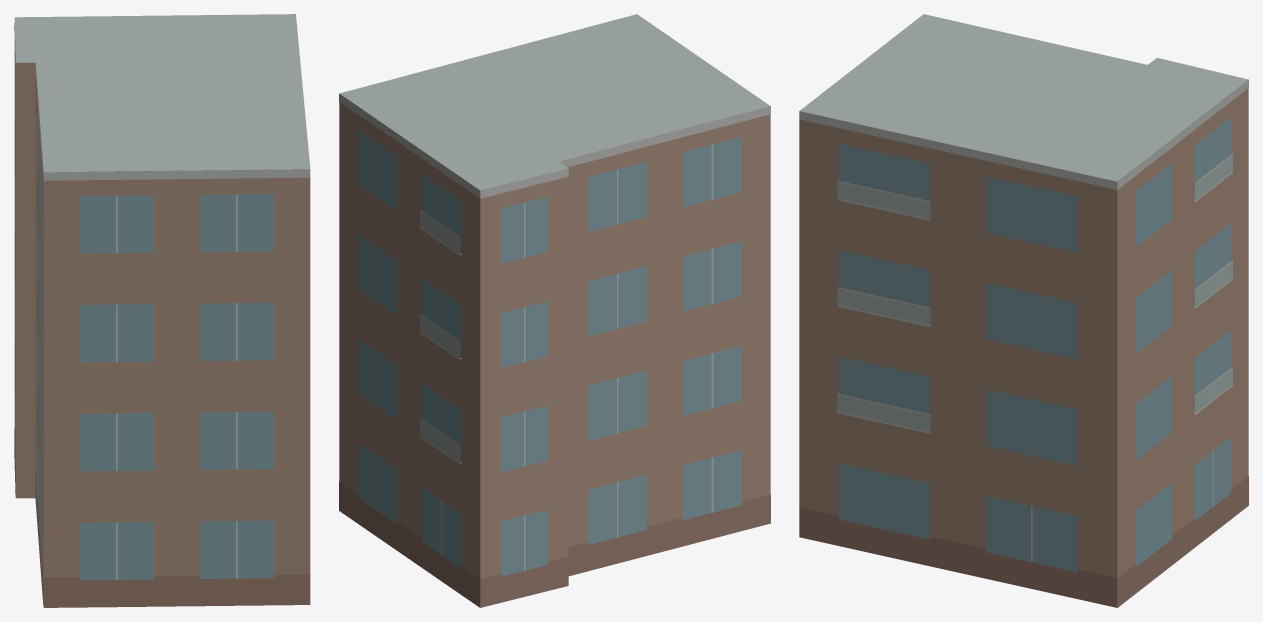
The model's file is survey-upis-32980321.glb.
3 views of the same model, side by side, from view 1: azimuth 30°, elevation 25°; view 2: azimuth 150°, elevation 25°; view 3: azimuth 270°, elevation 25° (orthographic). The views are drawn at different scales.
Parts seen in each view (by area): view 1: survey-upis-32980321.tmp; view 2: survey-upis-32980321.tmp; view 3: survey-upis-32980321.tmp.
Boxes of the visible parts, x1=… form: survey-upis-32980321.tmp: x1=14, y1=14, x2=310, y2=607; survey-upis-32980321.tmp: x1=339, y1=14, x2=770, y2=607; survey-upis-32980321.tmp: x1=799, y1=14, x2=1248, y2=607.
Size of the model in its own units: 10.64 by 12.59 by 12.05.
